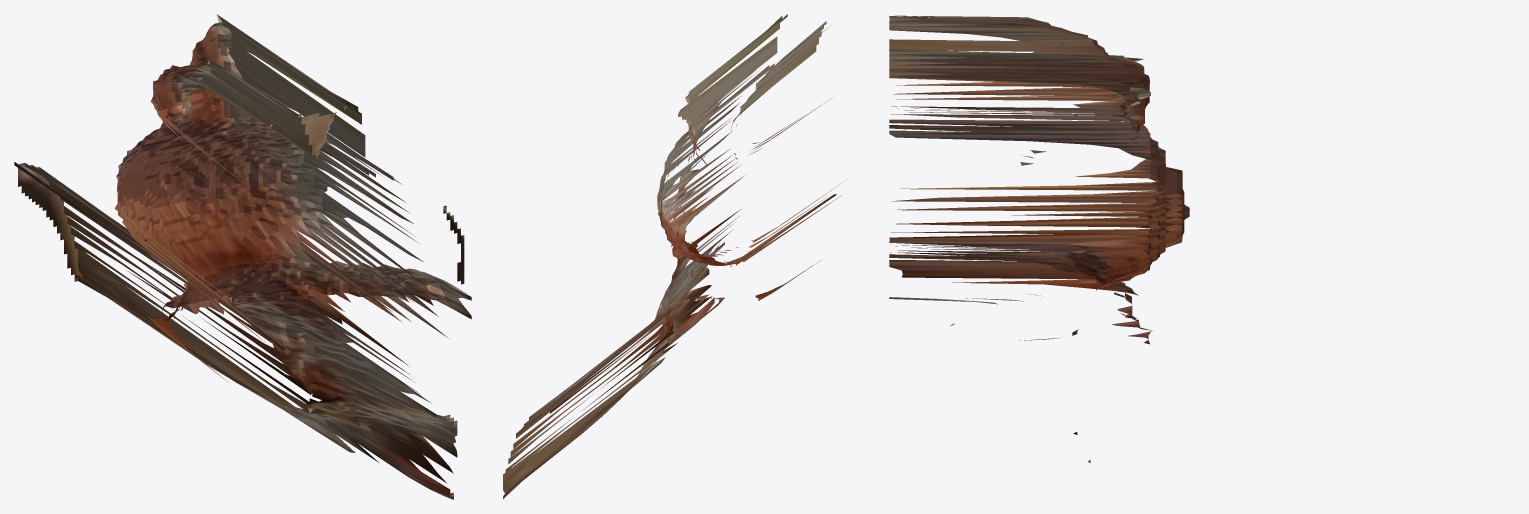
The model's file is frame_00330.glb.
3 views of the same model, side by side, from view 1: azimuth 30°, elevation 25°; view 2: azimuth 150°, elevation 25°; view 3: azimuth 270°, elevation 25° (orthographic). The views are drawn at different scales.
Visible parts, largest first — view 1: geometry_0; view 2: geometry_0; view 3: geometry_0.
Boxes of the visible parts, <box> form: geometry_0: <box>14,14,471,499</box>; geometry_0: <box>503,14,844,498</box>; geometry_0: <box>889,15,1189,462</box>.
Size of the model in its own units: 0.0614 by 0.1164 by 0.16.
Materials: 1 (1 with a texture image).
